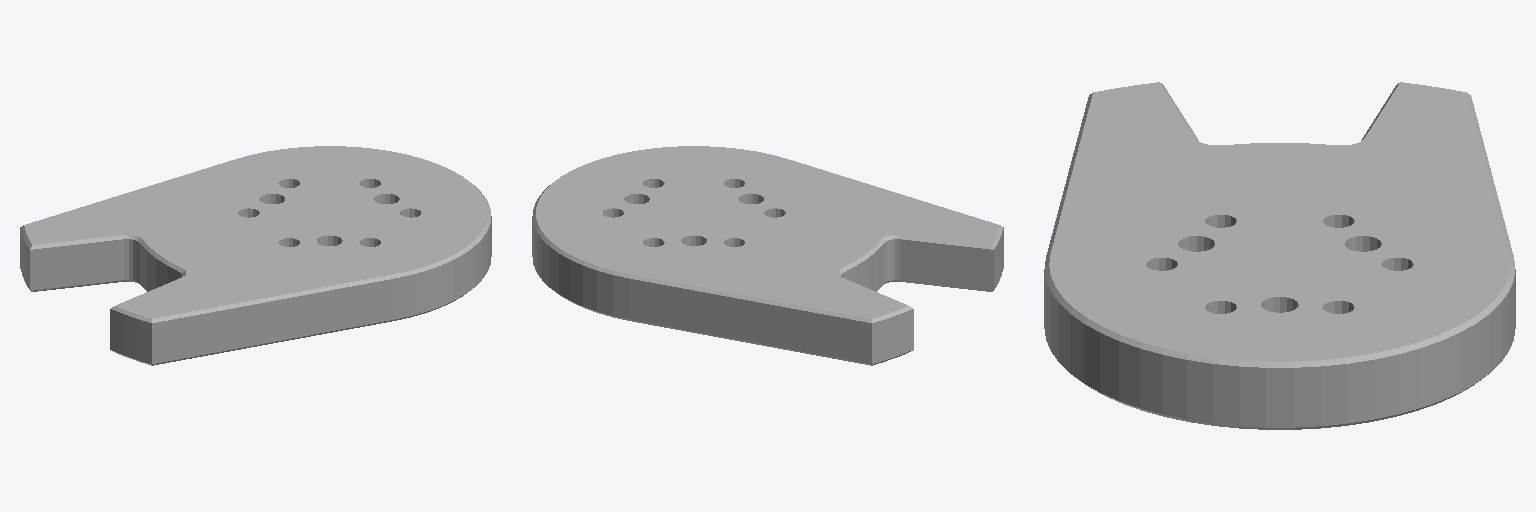
robot.urdf — ai_car1:
<?xml version="1.0"?>
<robot name="ai_car1">


  <link name="base_link"/>
  <!-- ========== Motor Assembly ========== -->
  <link name="motor">
    <inertial>
      <mass value="7.0"/>
      <inertia ixx="0.04778" iyy="0.04778" izz="0.07875" ixy="0" ixz="0" iyz="0"/>
    </inertial>
    <visual>
      <geometry>
        <mesh filename="package://simulator/models/ai_car1/meshes/motor.dae" scale="0.001 0.001 0.001"/>
      </geometry>
    </visual>
    <collision>
      <geometry>
        <mesh filename="package://simulator/models/ai_car1/meshes/motor.dae" scale="0.001 0.001 0.001"/>
      </geometry>
    </collision>
  </link>

  <joint name="motor_joint" type="fixed">
    <parent link="base_link"/>
    <child link="motor"/>
    <origin xyz="0.7 0 0.33" rpy="0 0 0"/>
  </joint>

  <link name="motor_spin">
    <inertial>
      <mass value="7.0"/>
      <inertia ixx="0.04778" iyy="0.04778" izz="0.07875" ixy="0" ixz="0" iyz="0"/>
    </inertial>
    <visual>
      <geometry>
        <mesh filename="package://simulator/models/ai_car1/meshes/motor_spin.dae" scale="0.001 0.001 0.001"/>
      </geometry>
    </visual>
    <collision>
      <geometry>
	      <mesh filename="package://simulator/models/ai_car1/meshes/motor_spin.dae" scale="0.001 0.001 0.001"/>
      </geometry>
    </collision>
  </link>

  <joint name="motor_spin_joint" type="revolute">
    <parent link="motor"/>
    <child link="motor_spin"/>
    <origin xyz="0 0 0.022" rpy="0 0 0"/>
    <axis xyz="0 0 1"/>
    <limit lower="-6.283" upper="6.283" effort="1.0" velocity="5.0"/>
    <dynamics friction="0.1" damping="0.0"/>
  </joint>

  <!-- ========== ROS 2 Control設定 ========== -->
  <ros2_control name="MotorControlSystem" type="system">
    <hardware>
      <plugin>gz_ros2_control/GazeboSimSystem</plugin>
    </hardware>

    <joint name="motor_spin_joint">
      <command_interface name="position"/>
      <command_interface name="effort"/>
      <command_interface name="velocity"/>
      <state_interface name="position"/>
      <state_interface name="effort"/>
      <state_interface name="velocity"/>
    </joint>
  </ros2_control>


  <gazebo>
    <plugin filename="gz_ros2_control-system" name="gz_ros2_control::GazeboSimROS2ControlPlugin">
      <parameters>/home/ikenta/ros2_ws/src/aiformula/simulator/config/8108_effort_controller.yaml</parameters>
    </plugin>
  </gazebo>


</robot>

--- Facts derived from the render (not from the file) ---
Views: 3 orthographic renders of the robot side by side, from view 1: azimuth 30°, elevation 25°; view 2: azimuth 150°, elevation 25°; view 3: azimuth 270°, elevation 25°.
Model ai_car1 with 3 links and 2 joints (1 revolute, 1 fixed), rooted at base_link, posed all joints at 0.
Visible links, largest first — view 1: motor_spin; view 2: motor_spin; view 3: motor_spin.
Link boxes in pixels (x1,y1,x2,y2): motor_spin: (20, 146, 491, 365); motor_spin: (532, 146, 1003, 365); motor_spin: (1044, 82, 1515, 429).
Bounding box of the posed robot: 0.0713 × 0.05 × 0.008 m (x, y, z).
1 mesh visuals loaded from 2 distinct referenced files (1 Collada DAE); not drawn: 1 (reference not matched to a file when rendering).
